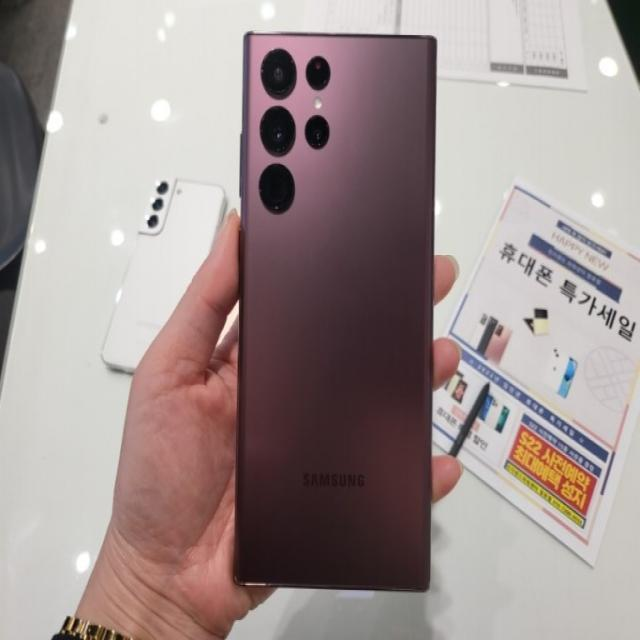phone: (231, 29, 438, 592)
